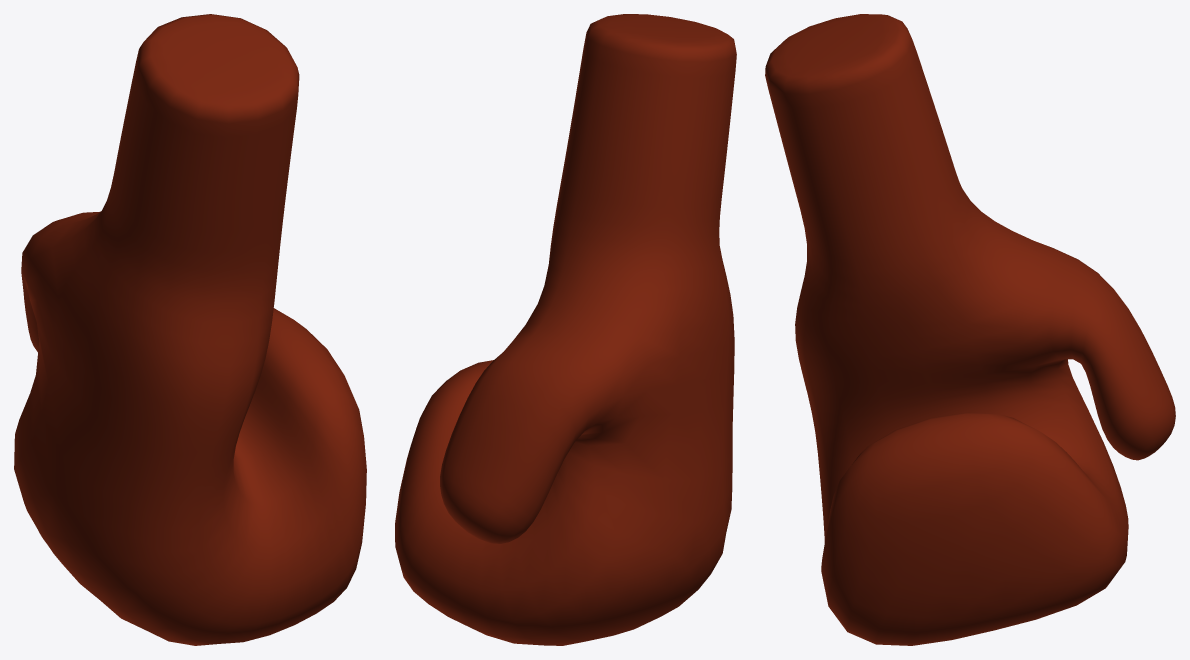
The model's file is glove_v1_left.gltf.
The picture shows the model from 3 angles, left to right: view 1: azimuth 30°, elevation 25°; view 2: azimuth 150°, elevation 25°; view 3: azimuth 270°, elevation 25°; orthographic projection. The views are drawn at different scales.
Visible parts, largest first — view 1: Left Glove; view 2: Left Glove; view 3: Left Glove.
Boxes of the visible parts, x1,y1,x2,y2 form: Left Glove: [14, 14, 366, 645]; Left Glove: [395, 14, 736, 645]; Left Glove: [765, 14, 1175, 645].
Bounding box in the file's own units: 0.1451 × 0.3133 × 0.2011.
